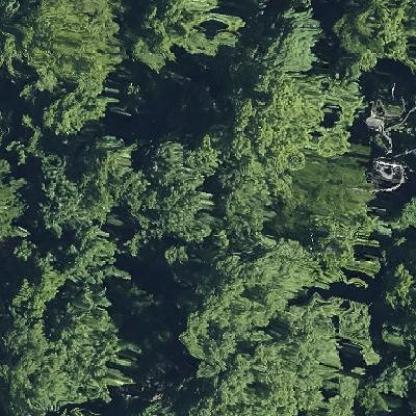tree-top: (2, 282, 139, 411), (15, 1, 124, 134), (231, 66, 365, 170), (129, 129, 213, 261), (128, 1, 248, 70), (331, 1, 415, 77), (252, 5, 320, 76), (382, 260, 415, 311)
